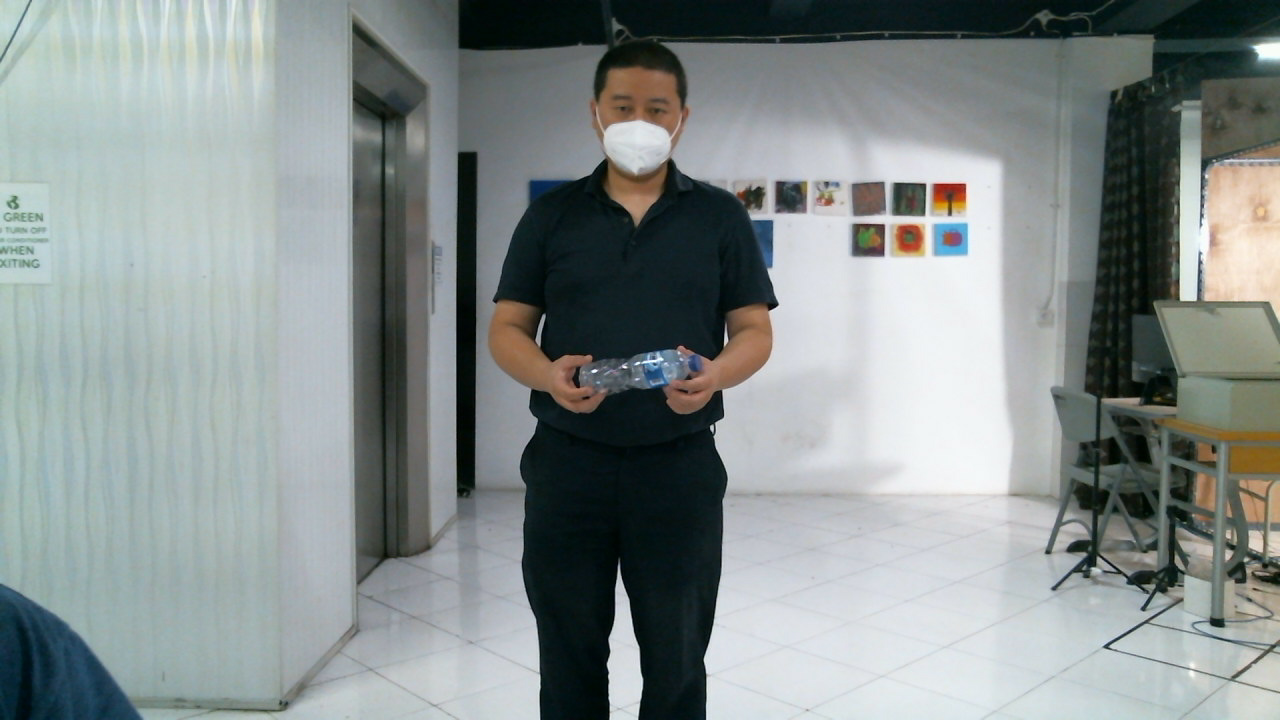Bottle: (580, 348, 699, 392)
